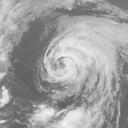cyclone: (41, 33, 102, 99)
